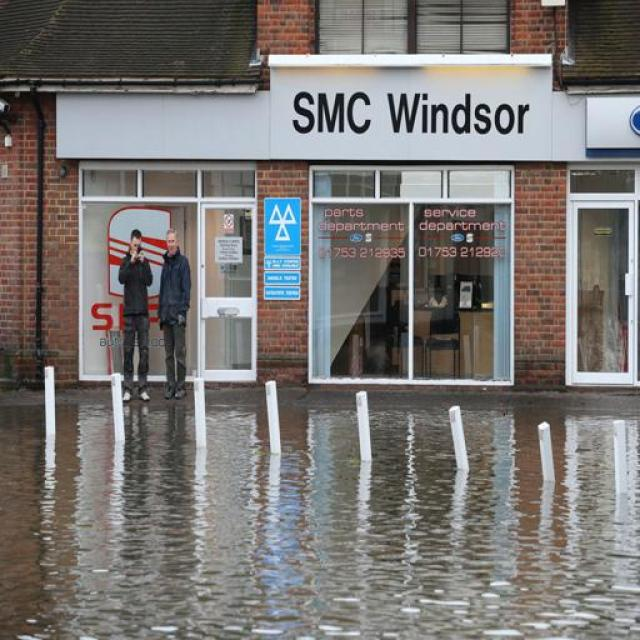puddle: (11, 411, 640, 640)
